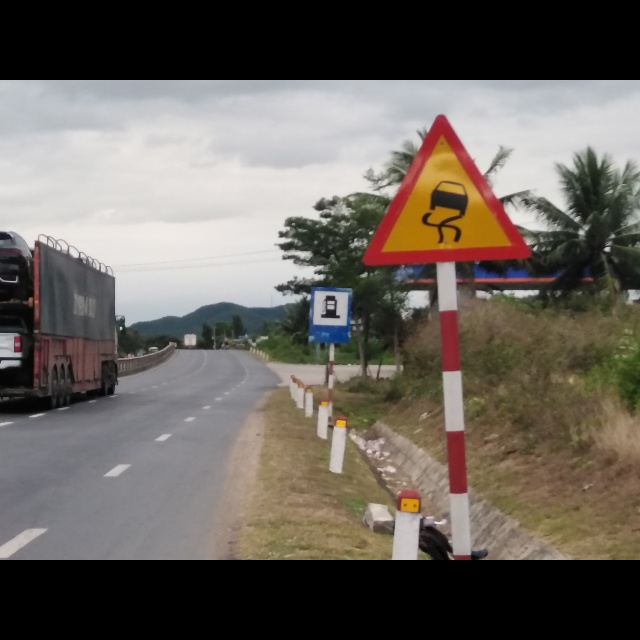Đường trơn trượt: (362, 117, 531, 266)
